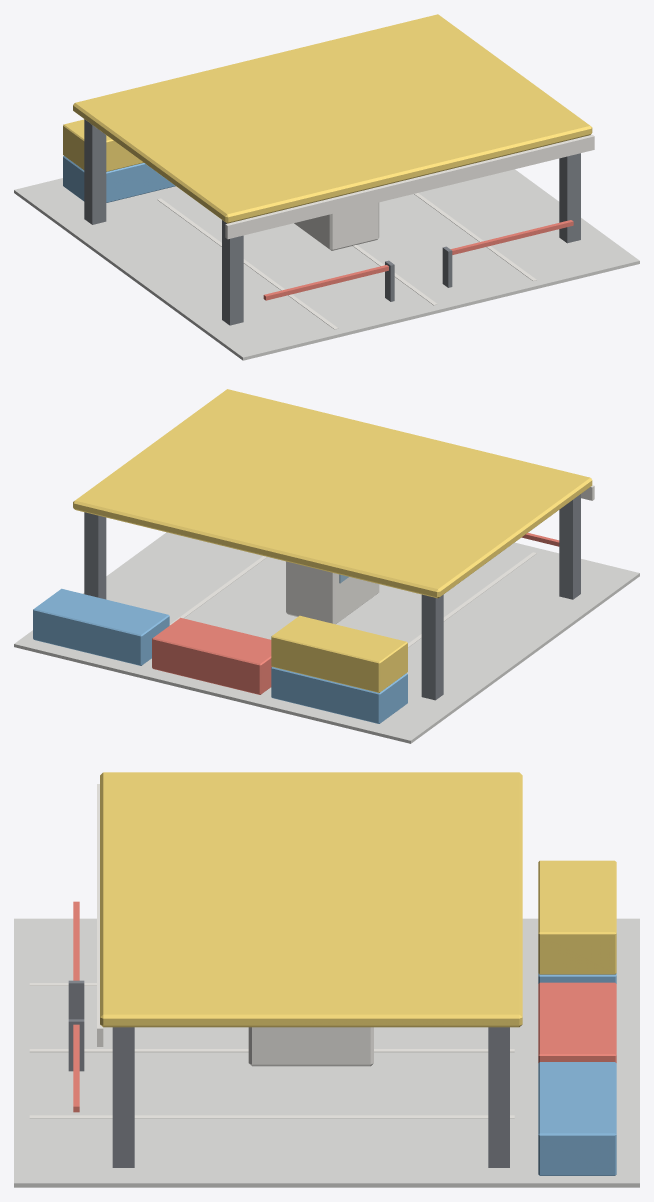
File: ExportExit.fbx
The picture shows the model from 3 angles, top to bottom: view 1: azimuth 30°, elevation 25°; view 2: azimuth 150°, elevation 25°; view 3: azimuth 270°, elevation 25°; orthographic projection. The views are drawn at different scales.
Parts seen in each view (by area): view 1: ExportExit; view 2: ExportExit; view 3: ExportExit.
Boxes of the visible parts, x1=… form: ExportExit: x1=14, y1=14, x2=639, y2=360; ExportExit: x1=14, y1=389, x2=639, y2=743; ExportExit: x1=14, y1=772, x2=639, y2=1187.
Size of the model in its own units: 4 by 1.14 by 4.
